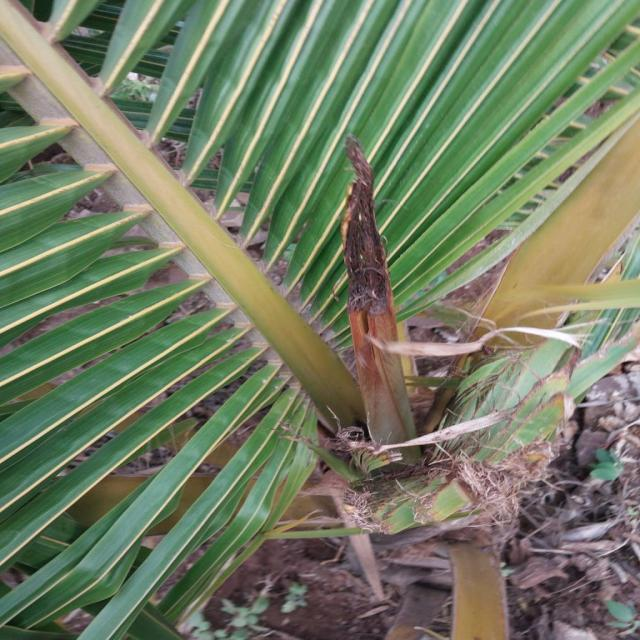bud rot: (342, 136, 415, 443)
